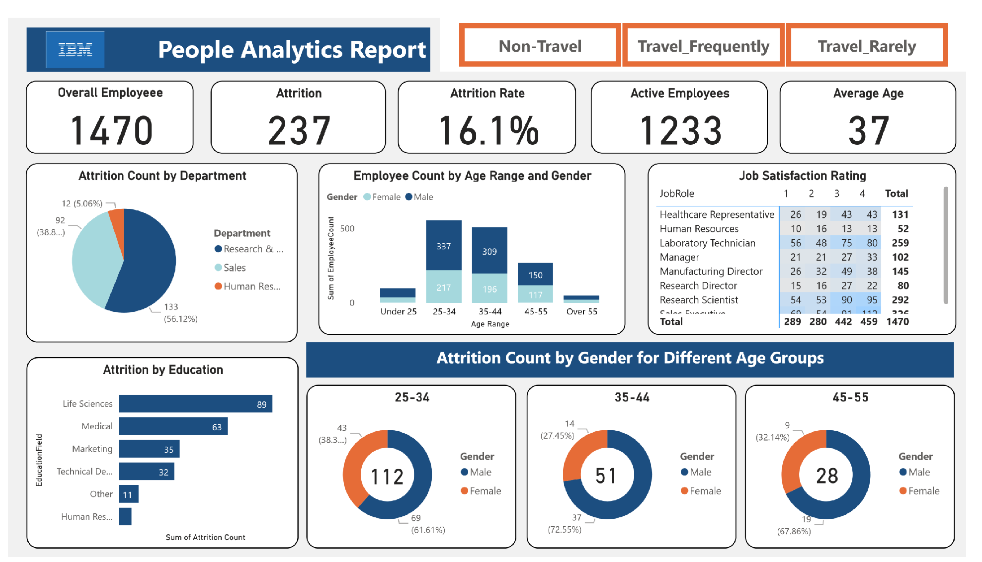

Layout of this report page (visuals, bound fields, positions):
{"tool":"powerbi","page":{"name":"Page 1","canvas":[1280,720],"ordinal":0},"visuals":[{"type":"card","title":"Overall  Employeee","fields":{"Values":["Sum(WA_Fn-UseC_-HR-Employee-Attrition.EmployeeCount)"]},"box":[24.5,83.5,223.2,97.9],"z":0},{"type":"card","title":"Attrition","fields":{"Values":["Sum(WA_Fn-UseC_-HR-Employee-Attrition.Attrition Count)"]},"box":[270.7,83.5,234.7,97.9],"z":1000},{"type":"card","title":"Attrition Rate","fields":{"Values":["WA_Fn-UseC_-HR-Employee-Attrition.Attrition Rate"]},"box":[521.3,83.5,237.6,97.9],"z":2000},{"type":"card","title":"Active Employees","fields":{"Values":["WA_Fn-UseC_-HR-Employee-Attrition.Active Enployee"]},"box":[779,83.5,236.2,97.9],"z":3000},{"type":"card","title":"Average Age","fields":{"Values":["Avg(WA_Fn-UseC_-HR-Employee-Attrition.Age)"]},"box":[1031,83.5,236.2,97.9],"z":4000},{"type":"pieChart","title":" Attrition Count by Department","fields":{"Category":["WA_Fn-UseC_-HR-Employee-Attrition.Department"],"Y":["Sum(WA_Fn-UseC_-HR-Employee-Attrition.Attrition Count)"]},"box":[24.5,194.4,362.9,239],"z":5000},{"type":"columnChart","title":" Employee Count by Age Range and Gender","fields":{"Category":["WA_Fn-UseC_-HR-Employee-Attrition.Age Range"],"Y":["Sum(WA_Fn-UseC_-HR-Employee-Attrition.EmployeeCount)"],"Series":["WA_Fn-UseC_-HR-Employee-Attrition.Gender"]},"box":[414.7,194.4,410.4,229],"z":6000},{"type":"pivotTable","title":"Job Satisfaction Rating","fields":{"Rows":["WA_Fn-UseC_-HR-Employee-Attrition.JobRole"],"Columns":["WA_Fn-UseC_-HR-Employee-Attrition.JobSatisfaction"],"Values":["CountNonNull(WA_Fn-UseC_-HR-Employee-Attrition.JobSatisfaction)"]},"box":[855.4,194.4,411.8,229],"z":7000},{"type":"barChart","title":" Attrition by Education","fields":{"Y":["Sum(WA_Fn-UseC_-HR-Employee-Attrition.Attrition Count)"],"Category":["WA_Fn-UseC_-HR-Employee-Attrition.EducationField"]},"box":[25.2,452.9,362.4,255],"z":8000},{"type":"donutChart","title":"25-34","fields":{"Y":["Sum(WA_Fn-UseC_-HR-Employee-Attrition.Attrition Count)"],"Category":["WA_Fn-UseC_-HR-Employee-Attrition.Gender"]},"box":[399.3,489.9,280,218.1],"z":9000},{"type":"textbox","box":[398.9,433.4,865.4,46.1],"z":10000},{"type":"donutChart","title":"35-44","fields":{"Y":["Sum(WA_Fn-UseC_-HR-Employee-Attrition.Attrition Count)"],"Category":["WA_Fn-UseC_-HR-Employee-Attrition.Gender"]},"box":[692.8,489.9,280.2,218.1],"z":11000},{"type":"donutChart","title":"45-55","fields":{"Y":["Sum(WA_Fn-UseC_-HR-Employee-Attrition.Attrition Count)"],"Category":["WA_Fn-UseC_-HR-Employee-Attrition.Gender"]},"box":[984.7,489.9,280,218.1],"z":12000},{"type":"card","fields":{"Values":["Sum(WA_Fn-UseC_-HR-Employee-Attrition.Attrition Count)"]},"box":[473.1,551.9,65.4,117.4],"z":13000},{"type":"card","fields":{"Values":["Sum(WA_Fn-UseC_-HR-Employee-Attrition.Attrition Count)"]},"box":[731.4,548.6,135.9,120.8],"z":14000},{"type":"card","fields":{"Values":["Sum(WA_Fn-UseC_-HR-Employee-Attrition.Attrition Count)"]},"box":[1040.1,546.9,109,124.1],"z":15000},{"type":"textbox","box":[25.2,13.4,538.5,58.7],"z":16000},{"type":"image","box":[43.6,13.4,92.3,58.7],"z":17000},{"type":"slicer","fields":{"Values":["WA_Fn-UseC_-HR-Employee-Attrition.BusinessTravel"]},"box":[577.1,0,702.9,72.1],"z":18000}]}

Visuals, with their boxes in screenshot pixels (x1, y1, x2, y2), scaled from the page's 1280x720 canvas onto the 982x562 screenshot:
"Overall  Employeee" card: (19, 65, 190, 142)
"Attrition" card: (208, 65, 388, 142)
"Attrition Rate" card: (400, 65, 582, 142)
"Active Employees" card: (598, 65, 779, 142)
"Average Age" card: (791, 65, 972, 142)
" Attrition Count by Department" pieChart: (19, 152, 297, 338)
" Employee Count by Age Range and Gender" columnChart: (318, 152, 633, 330)
"Job Satisfaction Rating" pivotTable: (656, 152, 972, 330)
" Attrition by Education" barChart: (19, 354, 297, 553)
"25-34" donutChart: (306, 382, 521, 553)
textbox: (306, 338, 970, 374)
"35-44" donutChart: (532, 382, 746, 553)
"45-55" donutChart: (755, 382, 970, 553)
card - Sum(WA_Fn-UseC_-HR-Employee-Attrition.Attrition Count): (363, 431, 413, 522)
card - Sum(WA_Fn-UseC_-HR-Employee-Attrition.Attrition Count): (561, 428, 665, 523)
card - Sum(WA_Fn-UseC_-HR-Employee-Attrition.Attrition Count): (798, 427, 882, 524)
textbox: (19, 10, 432, 56)
image: (33, 10, 104, 56)
slicer - WA_Fn-UseC_-HR-Employee-Attrition.BusinessTravel: (443, 0, 981, 56)
